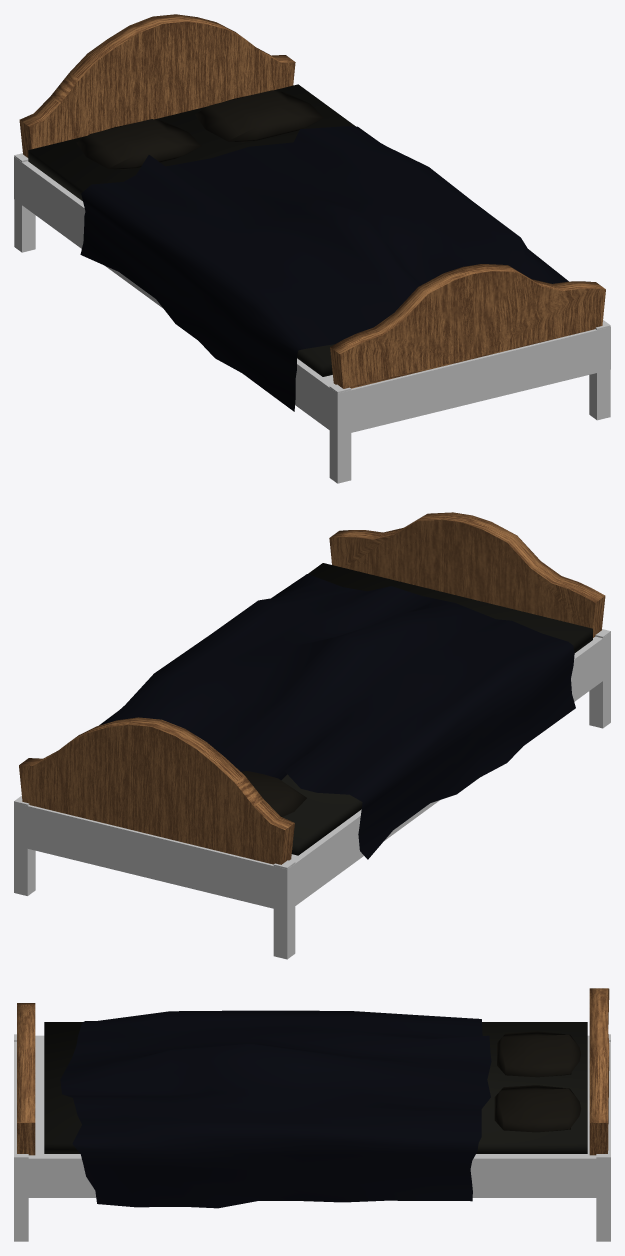
The model's file is Bed.fbx.
The picture shows the model from 3 angles, top to bottom: view 1: azimuth 30°, elevation 25°; view 2: azimuth 150°, elevation 25°; view 3: azimuth 270°, elevation 25°; orthographic projection. The views are drawn at different scales.
Visible parts, largest first — view 1: default; view 2: default; view 3: default.
Boxes of the visible parts, x1,y1,x2,y2 form: default: (14, 14, 610, 483); default: (14, 512, 610, 959); default: (14, 988, 610, 1241).
Bounding box in the file's own units: 2.11 × 1.38 × 4.1.
